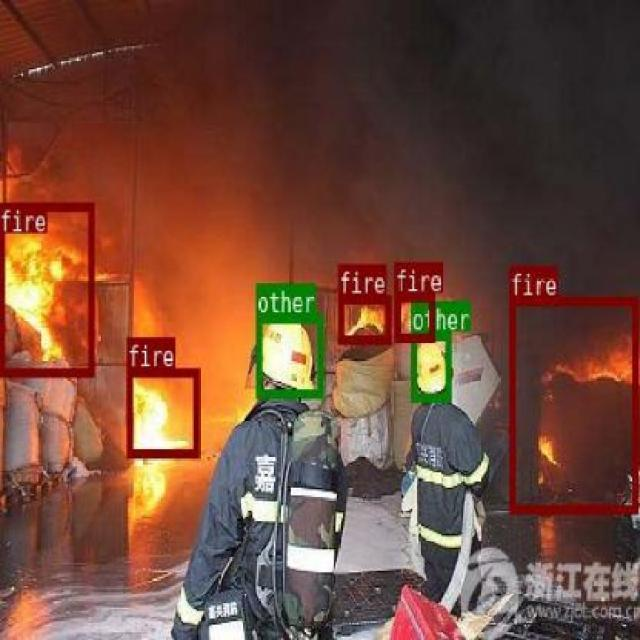Fire: (537, 284, 640, 508), (115, 275, 203, 510), (0, 184, 83, 348), (338, 304, 424, 346)
Smoke: (43, 0, 615, 497)
